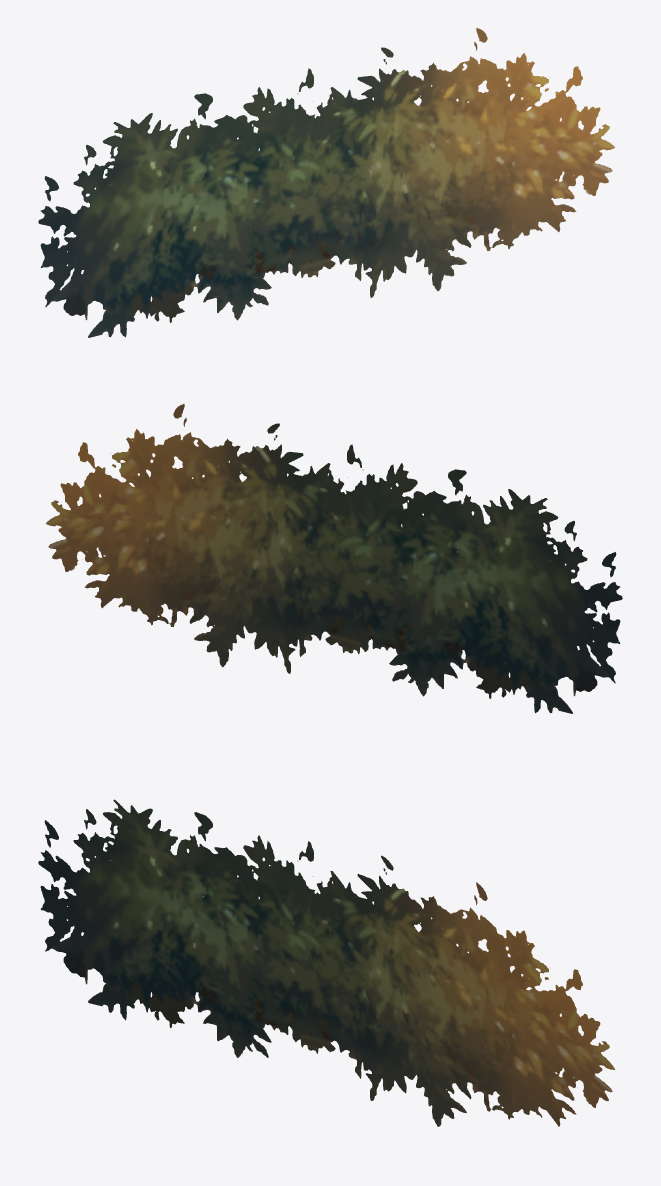
File: HuBian_NightZhiwu6_fbx.FBX
The picture shows the model from 3 angles, top to bottom: view 1: azimuth 30°, elevation 25°; view 2: azimuth 150°, elevation 25°; view 3: azimuth 330°, elevation 25°; orthographic projection.
Parts seen in each view (by area): view 1: Object036; view 2: Object036; view 3: Object036.
Part boxes in pixels (x1,y1,x2,y2): Object036: (38,28,614,337); Object036: (46,404,622,713); Object036: (38,799,614,1126).
Bounding box in the file's own units: 2.94 × 1.3 × 2.95e-07.
1 material, 1 textured.
